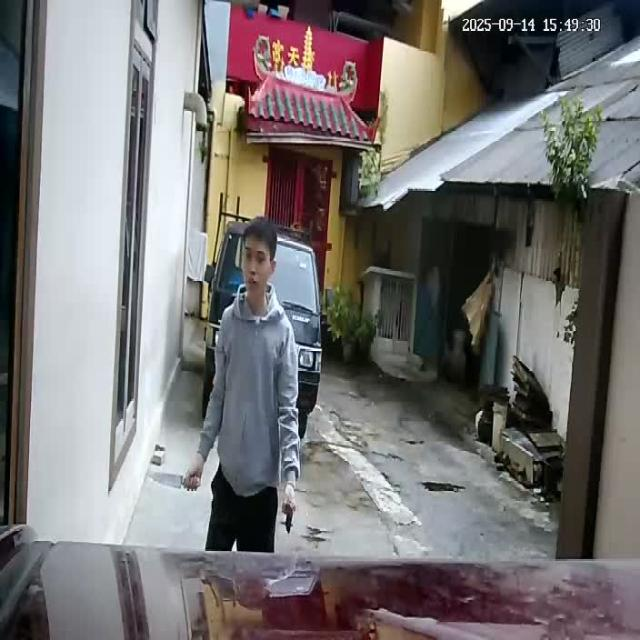senjata_tajam: (146, 469, 184, 492)
